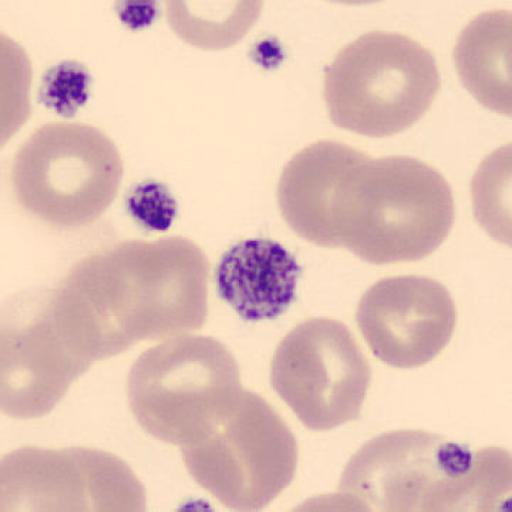Platelet: (212, 235, 306, 324), (35, 56, 97, 120), (121, 176, 182, 234), (167, 495, 220, 512)
RBC: (53, 235, 210, 357), (176, 382, 299, 512), (329, 153, 457, 267), (124, 332, 244, 448), (320, 28, 442, 140), (0, 284, 95, 421), (9, 120, 126, 230), (268, 314, 372, 434), (98, 234, 211, 344), (274, 138, 380, 250), (335, 427, 469, 512), (354, 272, 458, 371), (54, 256, 145, 360), (16, 281, 103, 378), (1, 323, 74, 420), (48, 443, 148, 512), (451, 6, 512, 118), (415, 444, 512, 512), (0, 443, 92, 512), (36, 292, 102, 377), (162, 0, 266, 52), (377, 472, 501, 512), (469, 138, 512, 251), (413, 465, 511, 512), (449, 443, 512, 512), (0, 30, 33, 151), (262, 491, 382, 512), (416, 479, 478, 512)
